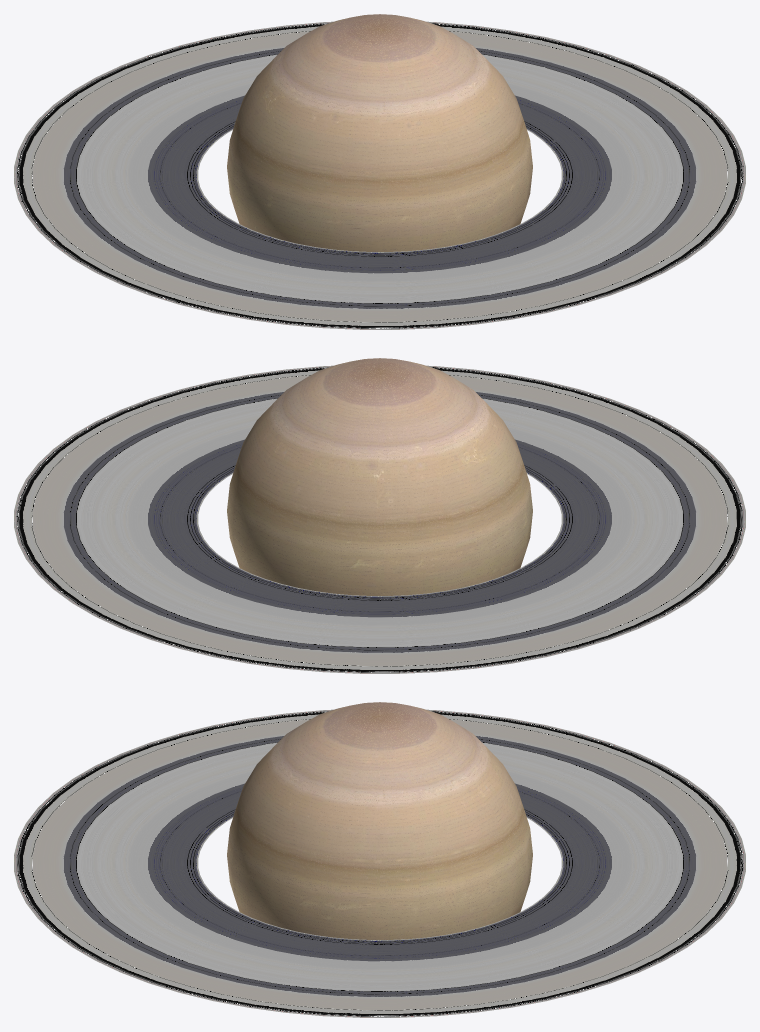
File: prop_saturn.fbx
3 renders of one model, top to bottom at view 1: azimuth 30°, elevation 25°; view 2: azimuth 150°, elevation 25°; view 3: azimuth 270°, elevation 25°, orthographic.
Visible parts, largest first — view 1: Saturn1, Component_1_28, Component_1_52, Component_1_19, Component_1_54, Component_1_22, Component_1_49, Component_1_18, Component_1_55, Component_1_14, Component_1_53, Component_1_17 (+44 smaller); view 2: Saturn1, Component_1_2, Component_1_44, Component_1_3, Component_1_42, Component_1_4, Component_1_37, Component_1_30, Component_1_60, Component_1_34, Component_1_46, Component_1_43 (+44 smaller); view 3: Saturn1, Component_1_9, Component_1_33, Component_1_6, Component_1_32, Component_1_8, Component_1_41, Component_1_23, Component_1_29, Component_1_25, Component_1_36, Component_1_20 (+44 smaller).
Boxes of the visible parts, <box> form: Saturn1: <box>227,14,532,251</box>; Component_1_28: <box>14,179,199,199</box>; Component_1_52: <box>560,179,745,199</box>; Component_1_19: <box>18,187,203,215</box>; Component_1_54: <box>556,187,741,215</box>; Component_1_22: <box>14,167,198,183</box>; Component_1_49: <box>561,167,745,183</box>; Component_1_18: <box>14,151,199,170</box>; Component_1_55: <box>560,151,745,170</box>; Component_1_14: <box>18,135,203,162</box>; Component_1_53: <box>556,135,741,162</box>; Component_1_17: <box>38,105,217,147</box>; Saturn1: <box>227,358,532,595</box>; Component_1_2: <box>14,523,199,543</box>; Component_1_44: <box>560,523,745,543</box>; Component_1_3: <box>18,531,203,559</box>; Component_1_42: <box>556,531,741,559</box>; Component_1_4: <box>14,511,198,527</box>; Component_1_37: <box>561,511,745,527</box>; Component_1_30: <box>560,495,745,514</box>; Component_1_60: <box>14,495,199,514</box>; Component_1_34: <box>556,479,741,506</box>; Component_1_46: <box>18,479,203,506</box>; Component_1_43: <box>542,449,721,491</box>; Saturn1: <box>227,702,532,939</box>; Component_1_9: <box>560,867,745,887</box>; Component_1_33: <box>14,867,199,887</box>; Component_1_6: <box>556,875,741,903</box>; Component_1_32: <box>18,875,203,903</box>; Component_1_8: <box>561,855,745,871</box>; Component_1_41: <box>14,855,198,871</box>; Component_1_23: <box>560,839,745,858</box>; Component_1_29: <box>14,839,199,858</box>; Component_1_25: <box>556,823,741,850</box>; Component_1_36: <box>18,823,203,850</box>; Component_1_20: <box>542,793,721,835</box>.
Size of the model in its own units: 78.15 by 32.69 by 78.15.
